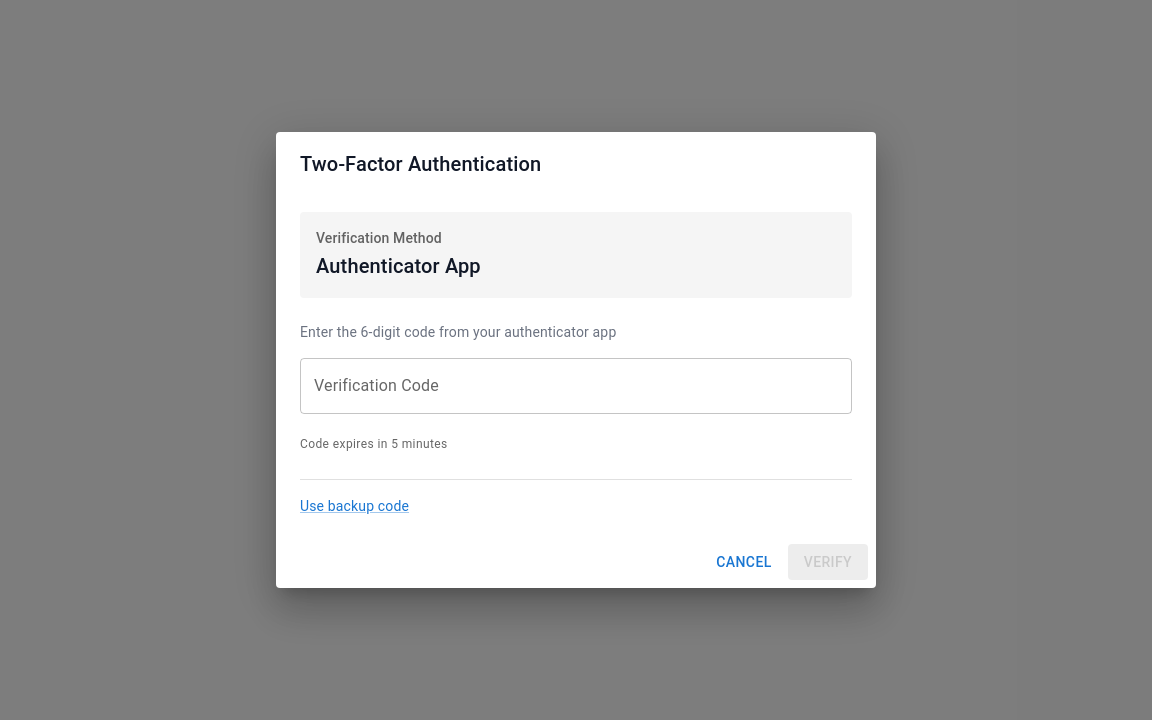
Test: TwoFactorVerificationModal › TOTP Method › should accept only numeric input for code
Type "123abc456" into the field with placeholder "000000".
click(576, 386); type("123abc456")  # box [300,358,852,414]
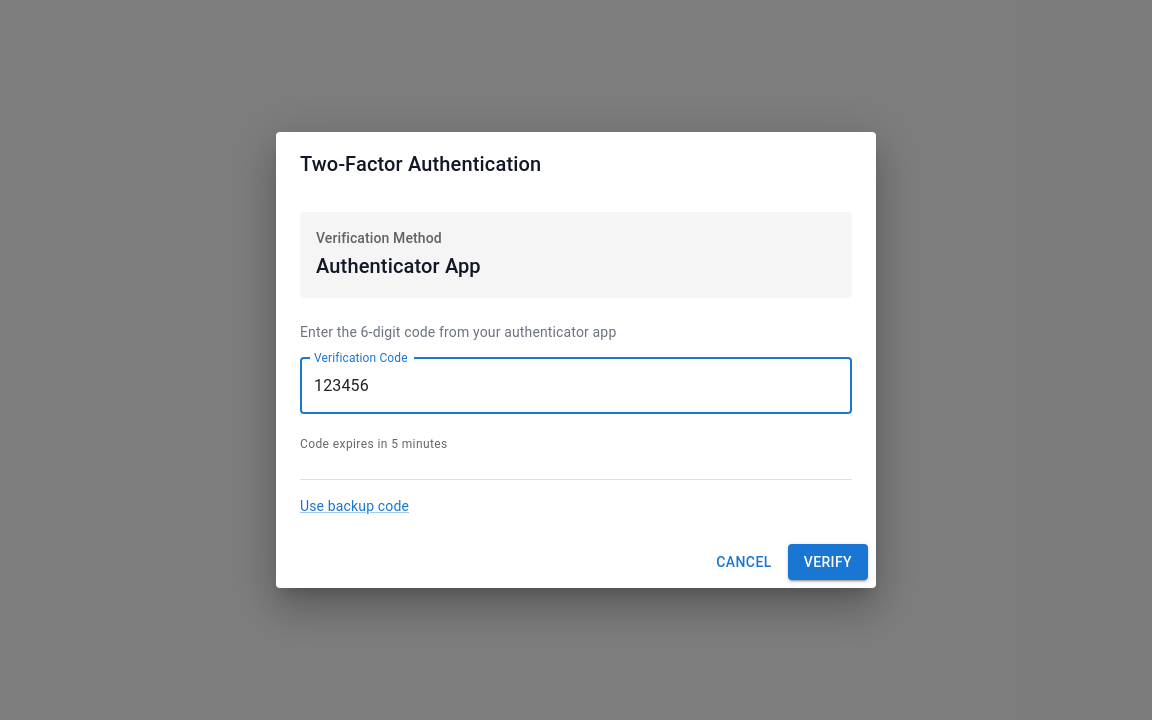
Now the field with placeholder "000000" holds "123456", box [300,358,852,414]
